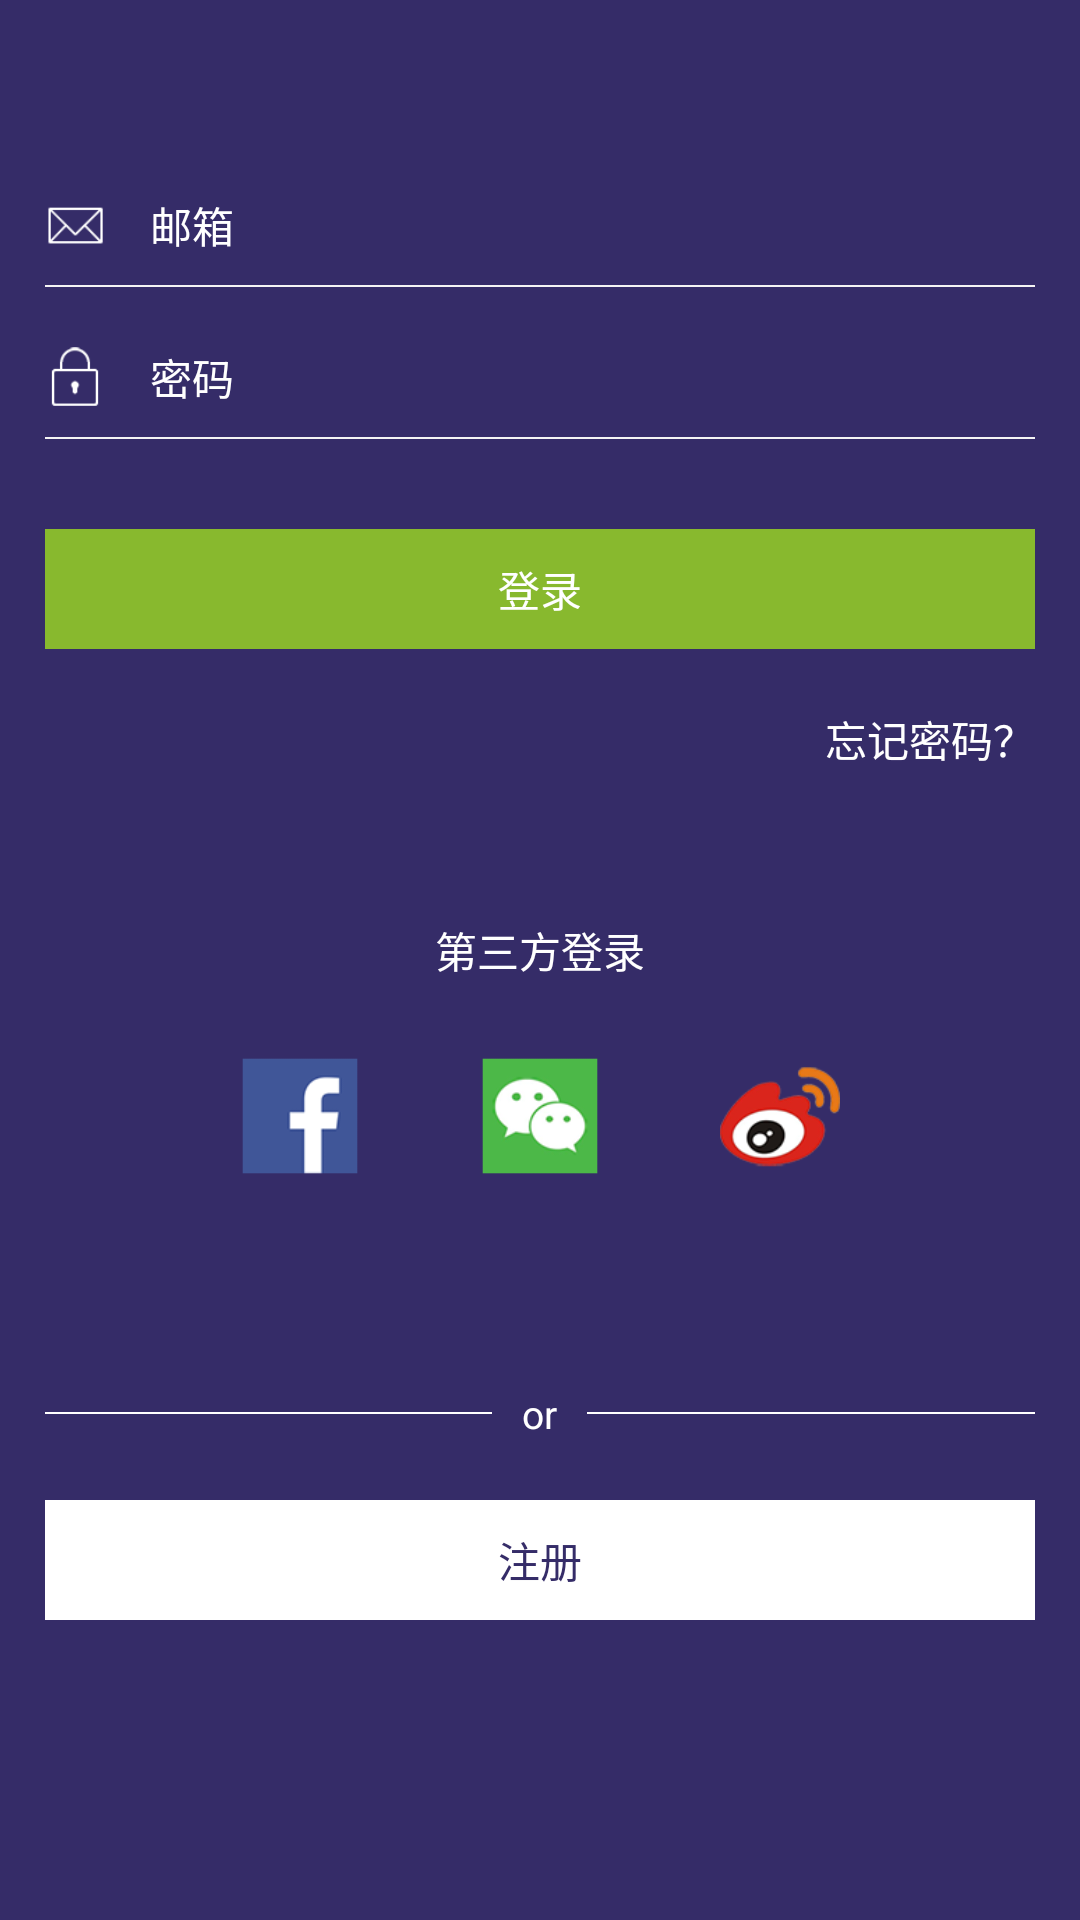

Icons on this 1080px×1920px Android screen, each with its box as region(x1, y1, x2, y2):
login input email: region(48, 207, 103, 244)
login input password: region(51, 347, 99, 406)
